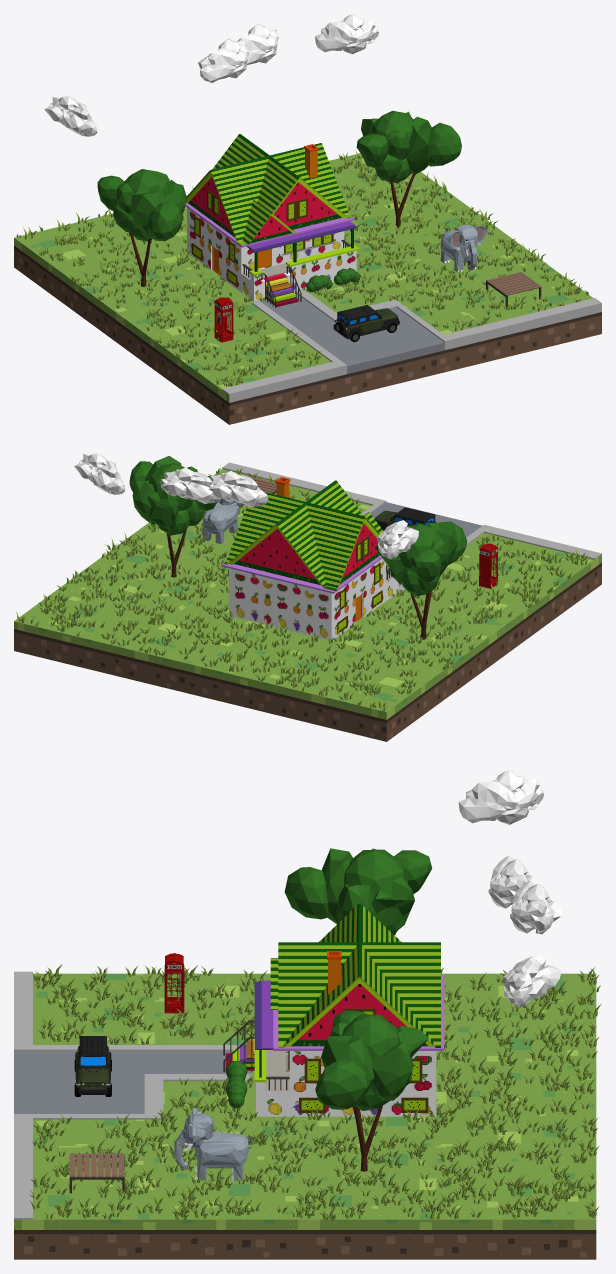
3 views of the same model, one above another, from view 1: azimuth 30°, elevation 25°; view 2: azimuth 150°, elevation 25°; view 3: azimuth 270°, elevation 25° (orthographic). The views are drawn at different scales.
Visible parts, largest first — view 1: Cube.006, Cube.1063, Circle.012_Grass_0.192, Cube.007, tree, tree.001, VEHICLES_JEEP, ANIMAL_ELEFANTE, Cube.009, OBJRANDOM_PHONEBOOTH; view 2: Cube.006, Cube.1063, Circle.012_Grass_0.192, Cube.007, tree.001, tree, ANIMAL_ELEFANTE, VEHICLES_JEEP, OBJRANDOM_PHONEBOOTH; view 3: Cube.006, Circle.012_Grass_0.192, Cube.1063, tree, Cube.007, tree.001, ANIMAL_ELEFANTE, VEHICLES_JEEP, Cube.009, OBJRANDOM_PHONEBOOTH.
Part boxes in pixels (box(x1,y1,x2,y2)): Cube.006: box(14, 153, 601, 424); Cube.1063: box(185, 134, 359, 308); Circle.012_Grass_0.192: box(16, 150, 588, 386); Cube.007: box(44, 14, 378, 136); tree: box(356, 110, 461, 228); tree.001: box(97, 169, 186, 286); VEHICLES_JEEP: box(333, 305, 399, 342); ANIMAL_ELEFANTE: box(440, 224, 486, 273); Cube.009: box(486, 272, 541, 306); OBJRANDOM_PHONEBOOTH: box(214, 297, 233, 342); Cube.006: box(14, 462, 601, 741); Cube.1063: box(221, 477, 398, 640); Circle.012_Grass_0.192: box(16, 468, 588, 711); Cube.007: box(74, 453, 418, 559); tree.001: box(375, 521, 467, 639); tree: box(129, 456, 216, 577); ANIMAL_ELEFANTE: box(202, 498, 243, 543); VEHICLES_JEEP: box(375, 507, 436, 530); OBJRANDOM_PHONEBOOTH: box(478, 543, 498, 588); Cube.006: box(14, 971, 596, 1259); Circle.012_Grass_0.192: box(29, 964, 601, 1220); Cube.1063: box(223, 903, 444, 1116); tree: box(315, 1010, 428, 1171); Cube.007: box(458, 770, 561, 1007); tree.001: box(284, 848, 432, 935); ANIMAL_ELEFANTE: box(174, 1108, 252, 1180); VEHICLES_JEEP: box(74, 1036, 111, 1096); Cube.009: box(69, 1153, 124, 1193); OBJRANDOM_PHONEBOOTH: box(164, 953, 184, 1013).
Bounding box in the file's own units: 4071 × 2198 × 4040.
Materials: 41 (6 with a texture image).
